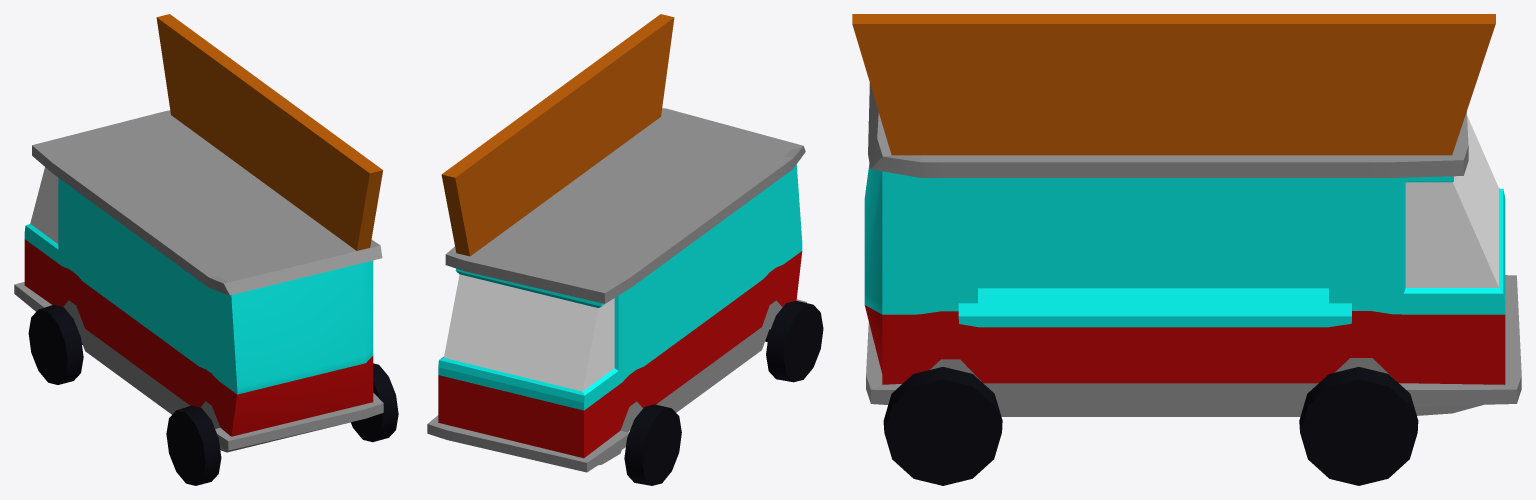
The model's file is MOD_TruckFoodA.FBX.
The picture shows the model from 3 angles, left to right: view 1: azimuth 30°, elevation 25°; view 2: azimuth 150°, elevation 25°; view 3: azimuth 270°, elevation 25°; orthographic projection. The views are drawn at different scales.
Parts seen in each view (by area): view 1: Box002; view 2: Box002; view 3: Box002.
Part boxes in pixels (x1,y1,x2,y2): Box002: [14, 14, 398, 485]; Box002: [427, 14, 823, 485]; Box002: [852, 14, 1521, 485].
Bounding box in the file's own units: 119 × 172 × 235.
